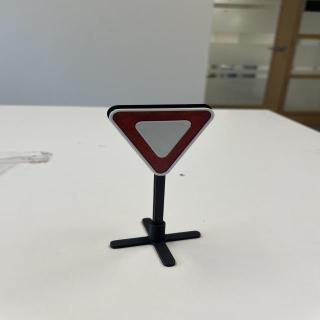sign_yield: (107, 105, 221, 180)
